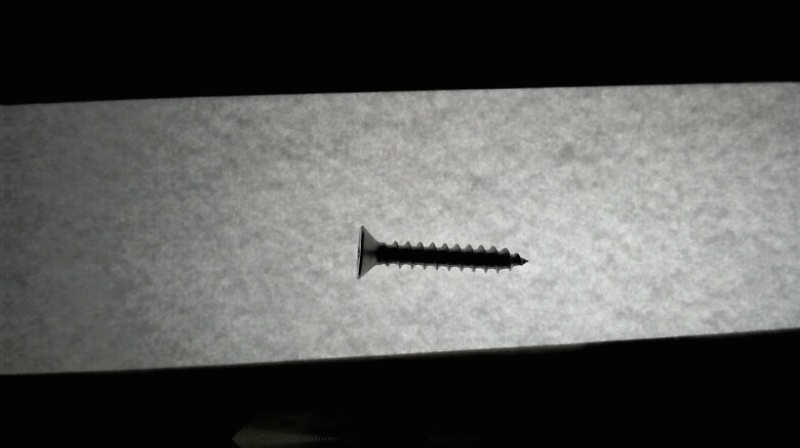S001: (350, 223, 530, 281)
